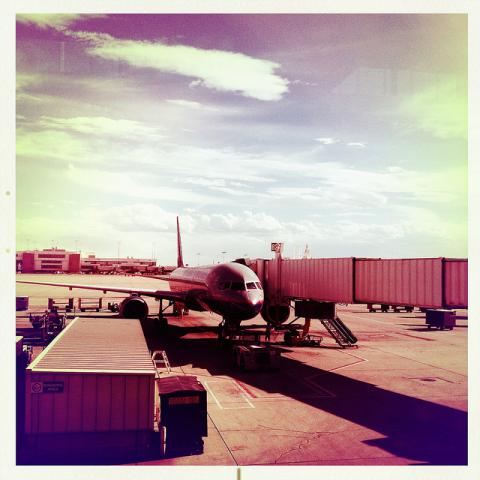car: (232, 340, 280, 372)
